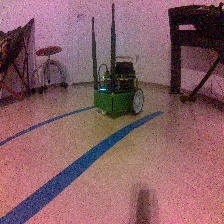rob: (92, 60, 144, 115)
